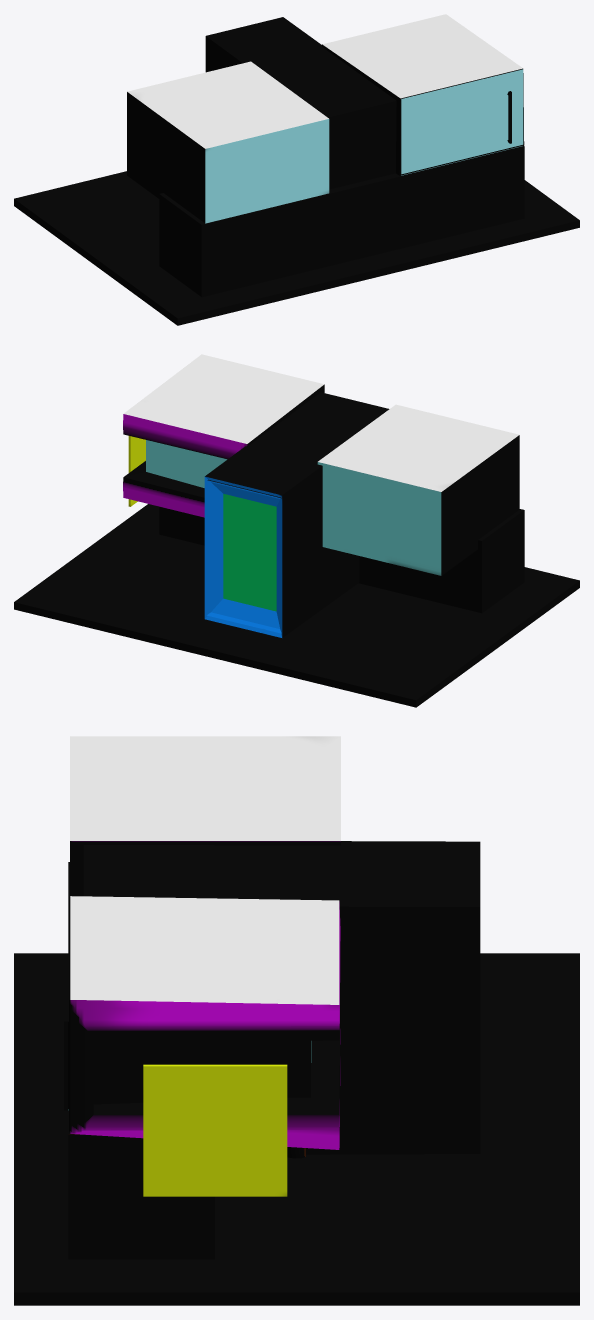
Rendered from house do 2.fbx.
3 renders of one model, top to bottom at view 1: azimuth 30°, elevation 25°; view 2: azimuth 150°, elevation 25°; view 3: azimuth 270°, elevation 25°, orthographic. The views are drawn at different scales.
Parts seen in each view (by area): view 1: Plane.001; view 2: Plane.001; view 3: Plane.001.
Part boxes in pixels (x1,y1,x2,y2): Plane.001: (14,14,579,325); Plane.001: (14,354,579,707); Plane.001: (14,736,579,1305).
Size of the model in its own units: 1117 by 428 by 787.
